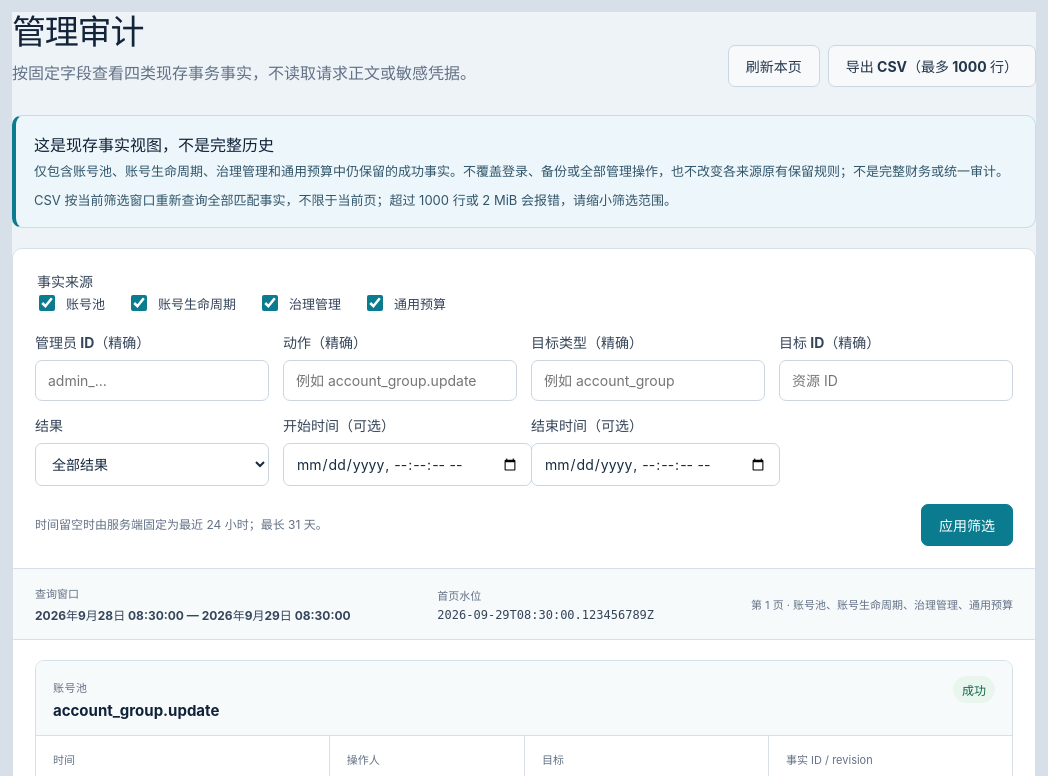
bounded audit CSV export › shows the server bound error and never saves an error body as CSV
Expected: the text "account_group.update" is shown, [53,701,219,720]
Click the button "导出 CSV（最多 1000 行）" at (932, 66), box [828,44,1036,86]
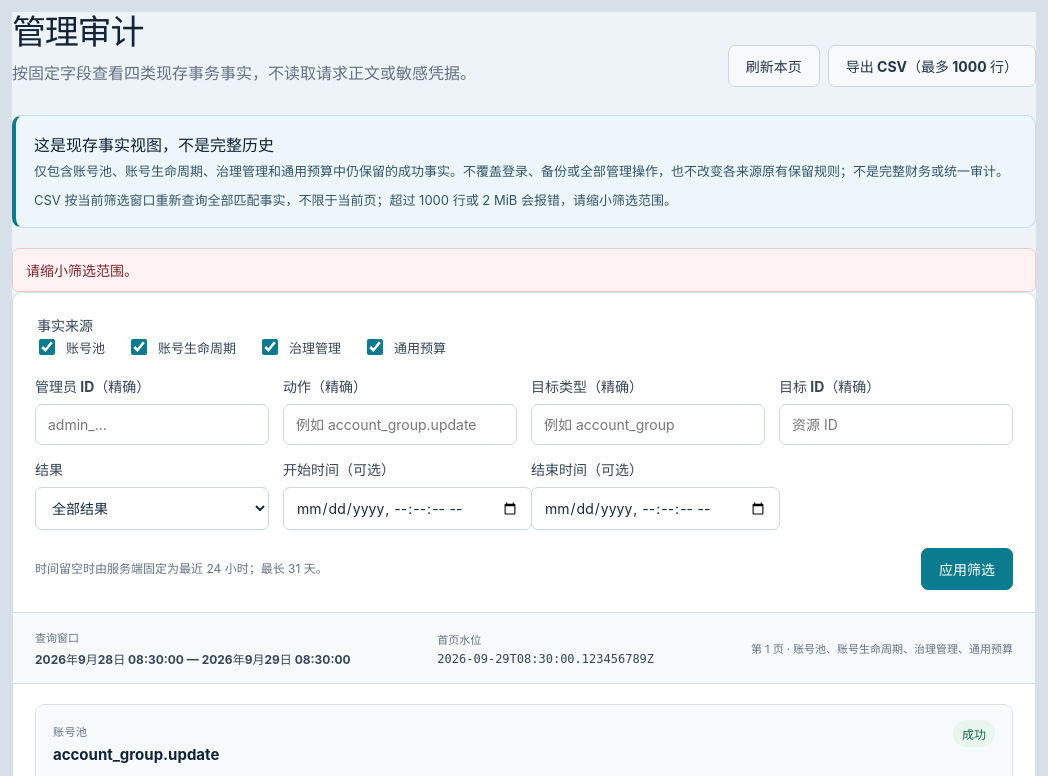
Expected: the message reads "请缩小筛选范围。", [26,262,138,279]
